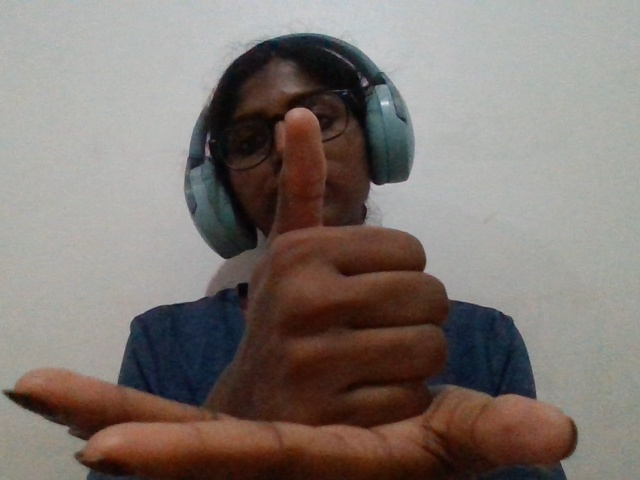Help: (3, 67, 636, 480)
